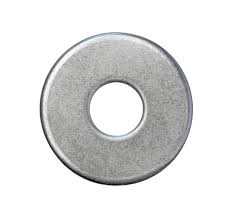No thread: (77, 69, 154, 141)
